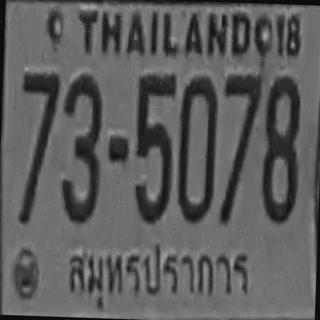N00: (175, 73, 218, 222)
N03: (59, 71, 102, 222)
N05: (133, 72, 176, 222)
N07: (16, 70, 59, 222), (218, 72, 260, 223), (221, 72, 260, 182)
N08: (259, 75, 299, 221)
P57: (54, 233, 254, 316)
